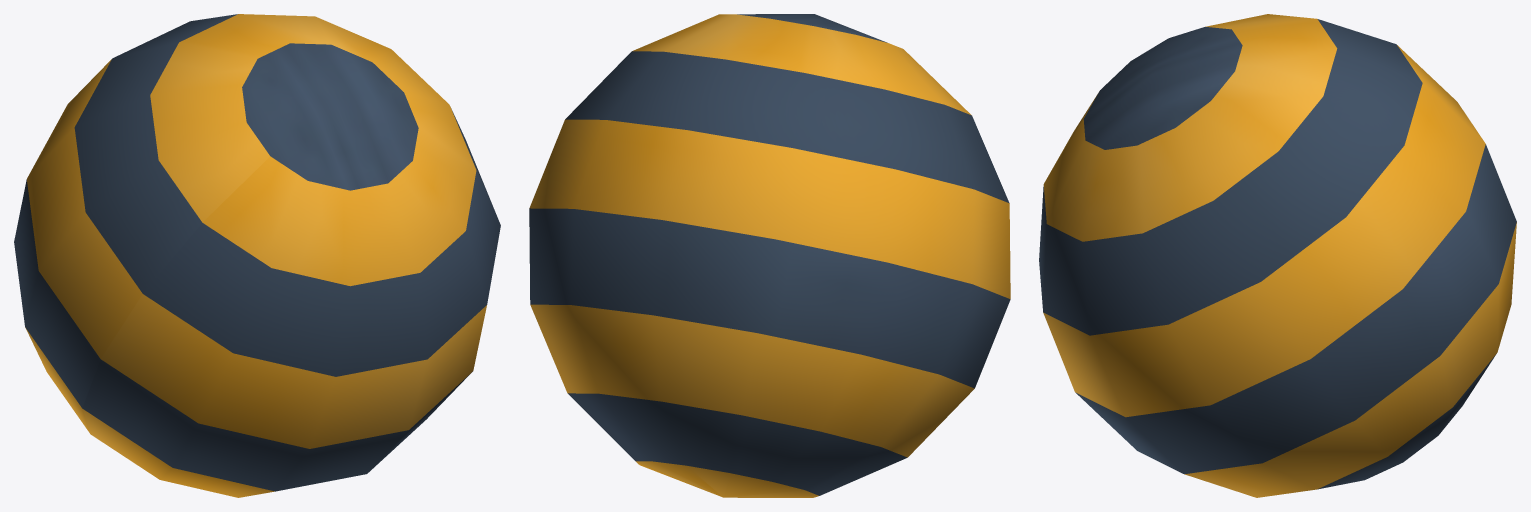
File: pelota.fbx
3 views of the same model, side by side, from view 1: azimuth 30°, elevation 25°; view 2: azimuth 150°, elevation 25°; view 3: azimuth 270°, elevation 25° (orthographic).
Parts seen in each view (by area): view 1: Pelota; view 2: Pelota; view 3: Pelota.
Boxes of the visible parts, x1,y1,x2,y2 form: Pelota: (14, 14, 500, 497); Pelota: (529, 14, 1010, 497); Pelota: (1039, 14, 1516, 497).
Bounding box in the file's own units: 31.38 × 31.33 × 31.15.
